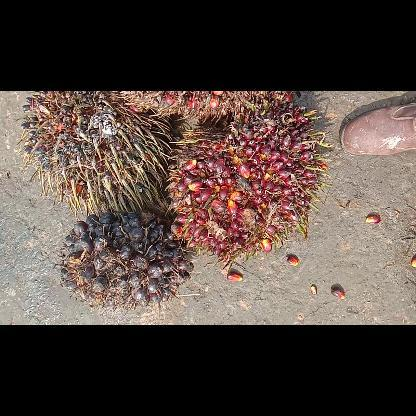TBS abnormal: (20, 92, 174, 214)
TBS masak: (167, 108, 327, 260)
TBS mentah: (60, 212, 192, 306)
Terlalu masak: (118, 90, 298, 119)
